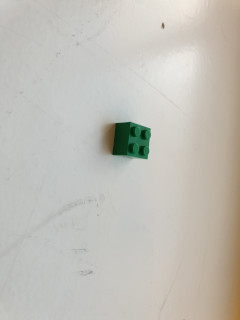2x2 green: (109, 121, 152, 162)
